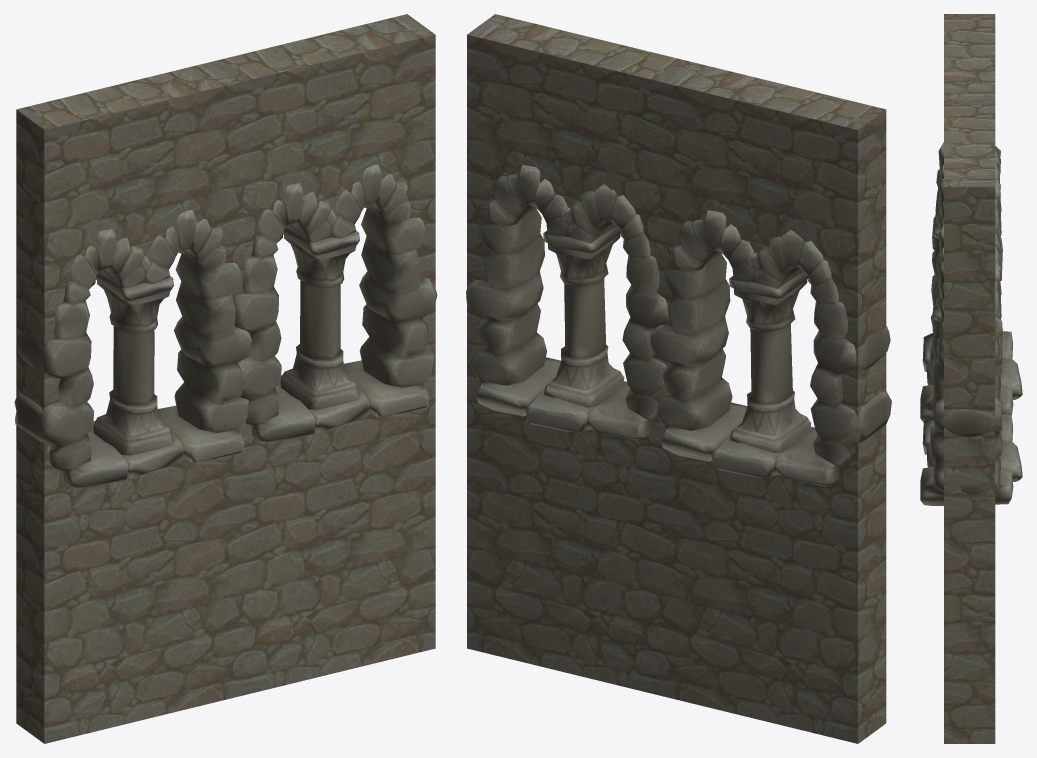
Rendered from SM_FW01_Ruins_Int_Window_B_4x6_01.fbx.
The picture shows the model from 3 angles, left to right: view 1: azimuth 30°, elevation 25°; view 2: azimuth 150°, elevation 25°; view 3: azimuth 270°, elevation 25°; orthographic projection. The views are drawn at different scales.
Visible parts, largest first — view 1: SM_FW01_Ruins_Int_Window_B_4x6_01, SM_FW01_Ruins_Int_Window_B_4x6_01_LOD0; view 2: SM_FW01_Ruins_Int_Window_B_4x6_01, SM_FW01_Ruins_Int_Window_B_4x6_01_LOD0; view 3: SM_FW01_Ruins_Int_Window_B_4x6_01, SM_FW01_Ruins_Int_Window_B_4x6_01_LOD0.
Part boxes in pixels (x1,y1,x2,y2): SM_FW01_Ruins_Int_Window_B_4x6_01: (16,14,435,743); SM_FW01_Ruins_Int_Window_B_4x6_01_LOD0: (14,164,437,489); SM_FW01_Ruins_Int_Window_B_4x6_01: (467,14,886,743); SM_FW01_Ruins_Int_Window_B_4x6_01_LOD0: (466,165,891,486); SM_FW01_Ruins_Int_Window_B_4x6_01: (944,14,995,743); SM_FW01_Ruins_Int_Window_B_4x6_01_LOD0: (920,142,1022,505).
Size of what is drawn, in the model's own units: 4.06 by 6 by 0.9997.
